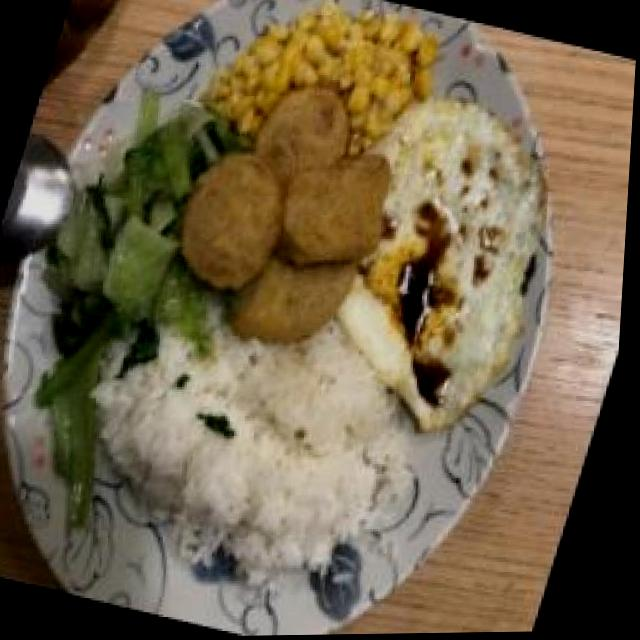chicken_nuggets: (158, 68, 417, 361)
fried_eggs: (327, 93, 576, 439)
rice: (121, 320, 403, 588)
